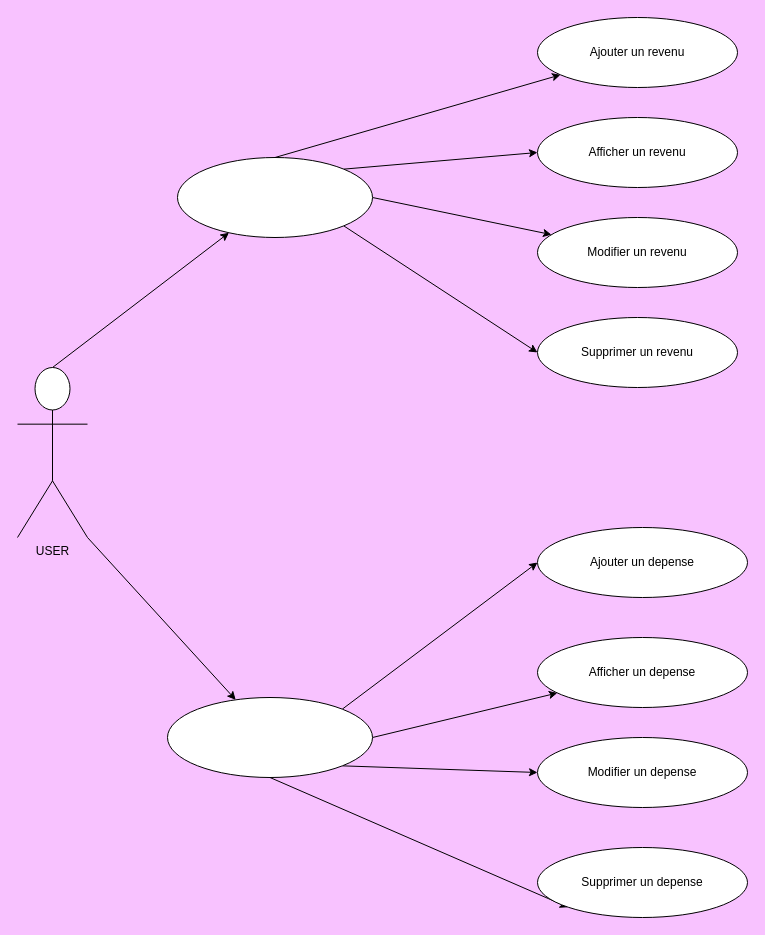
Some shapes in this 765 by 935 pixel diagram are drawn without their labels. The shapes that lost their labels are listed below. From the top down, each one's centre as x and y in pixels, then its label:
point (274, 197): Gerer les revenus
point (269, 737): Gerer les depenses
